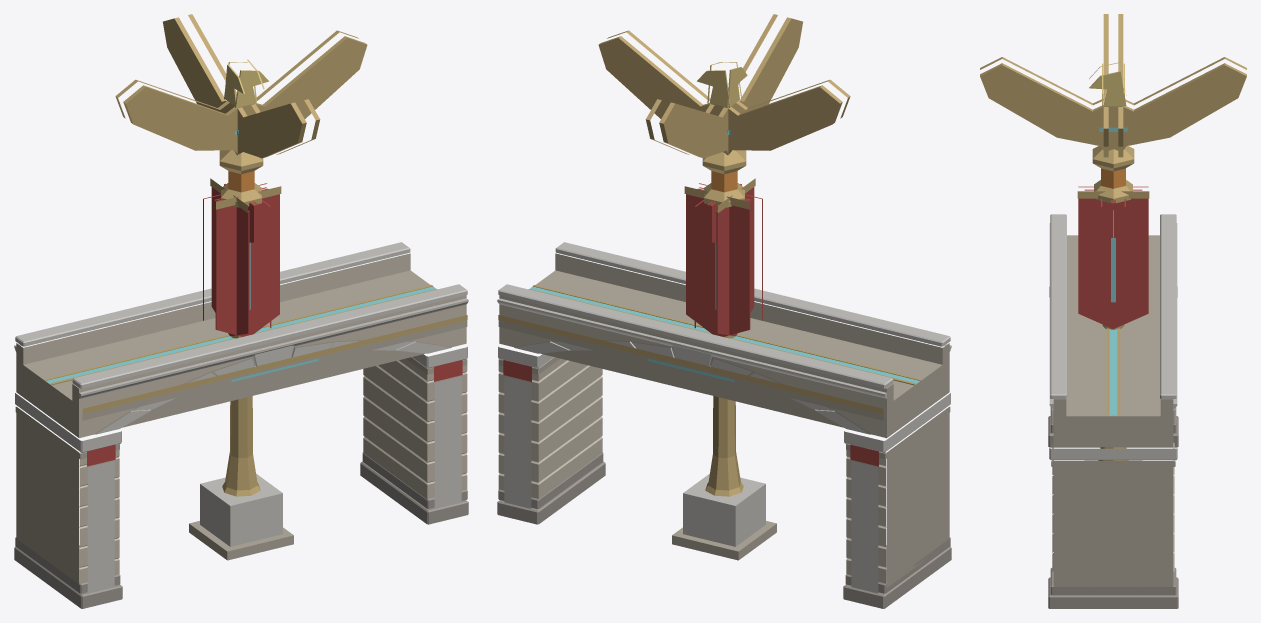
File: m2cx2_landmarks.glb
3 views of the same model, side by side, from view 1: azimuth 30°, elevation 25°; view 2: azimuth 150°, elevation 25°; view 3: azimuth 270°, elevation 25° (orthographic). The views are drawn at different scales.
Parts seen in each view (by area): view 1: aqua_keystone, arx_signal_eagle, specula_beacon; view 2: aqua_keystone, arx_signal_eagle, specula_beacon; view 3: aqua_keystone, arx_signal_eagle, specula_beacon.
Boxes of the visible parts, x1,y1,x2,y2 form: aqua_keystone: (14,242,468,608); arx_signal_eagle: (115,14,367,560); specula_beacon: (214,150,268,242); aqua_keystone: (497,242,951,608); arx_signal_eagle: (598,14,850,560); specula_beacon: (697,150,751,242); aqua_keystone: (1048,214,1178,608); arx_signal_eagle: (980,14,1246,460); specula_beacon: (1084,146,1142,237).
Size of what is drawn, in the model's own units: 10 by 11.83 by 6.24.
